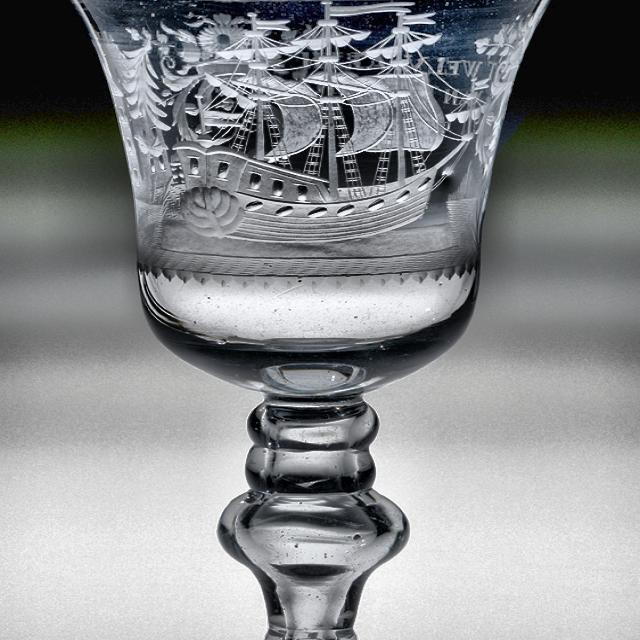glass: (71, 0, 565, 640)
